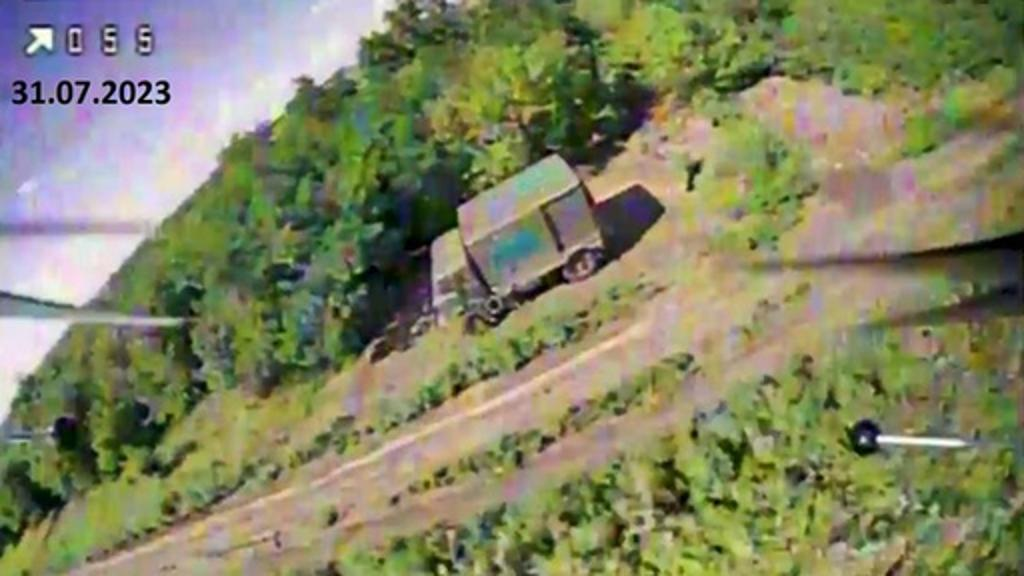TRUCK: (420, 148, 610, 334)
